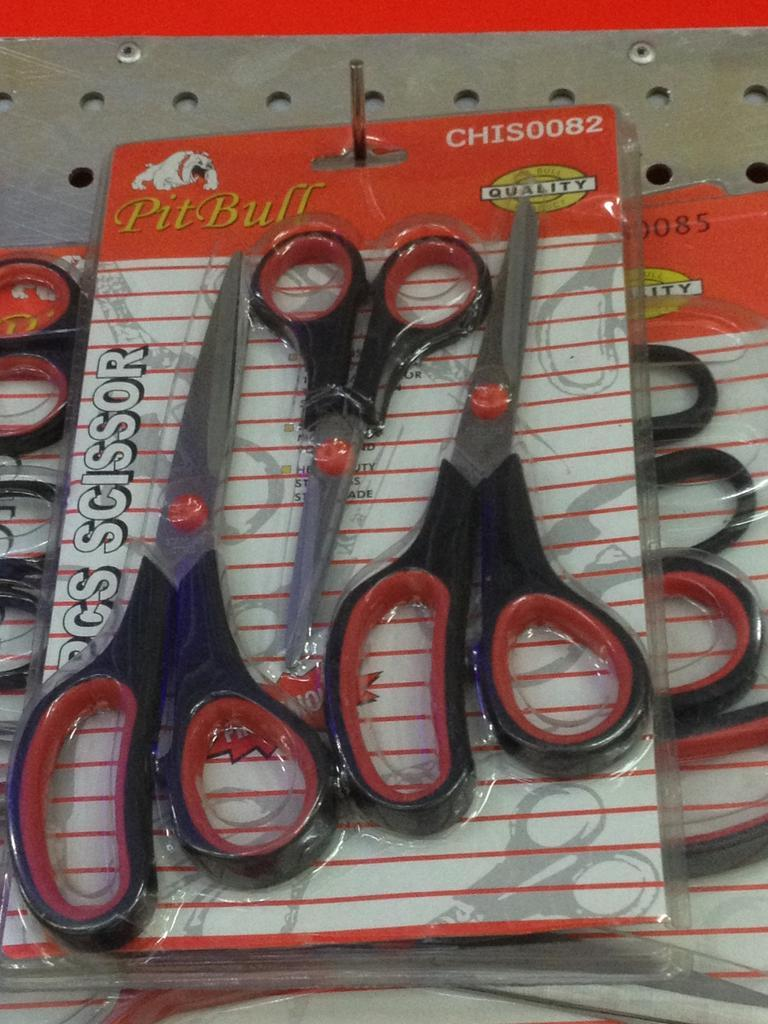scissor: (60, 210, 708, 910)
